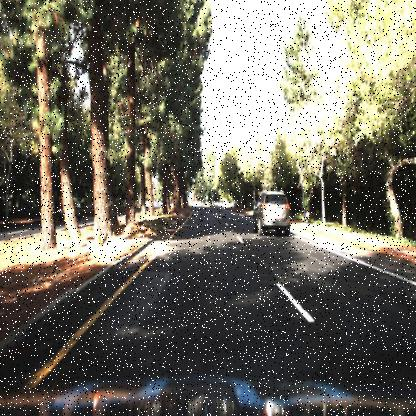car: (250, 187, 291, 237), (56, 194, 80, 224), (58, 198, 78, 228)
